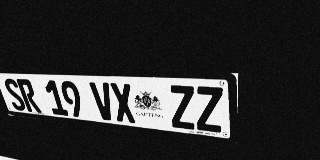1: (42, 80, 69, 116)
9: (59, 81, 86, 118)
R: (16, 79, 42, 113)
S: (2, 78, 28, 111)
V: (89, 82, 117, 121)
X: (109, 83, 137, 123)
Z: (195, 86, 223, 133), (168, 85, 196, 130)
